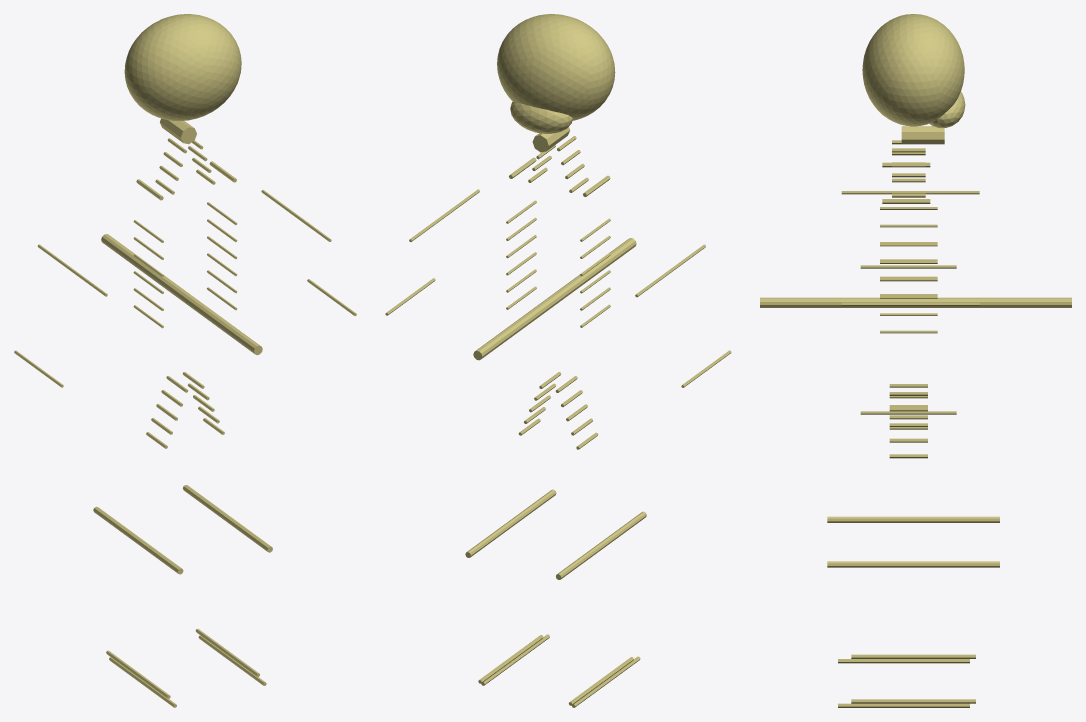
Rendered from nervous.glb.
The picture shows the model from 3 angles, left to right: view 1: azimuth 30°, elevation 25°; view 2: azimuth 150°, elevation 25°; view 3: azimuth 270°, elevation 25°; orthographic projection. The views are drawn at different scales.
Parts seen in each view (by area): view 1: world; view 2: world; view 3: world.
Boxes of the visible parts, x1,y1,x2,y2 form: world: (14,14,356,707); world: (385,14,731,707); world: (760,14,1071,707).
Bounding box in the file's own units: 1.45 × 3.06 × 1.3.
